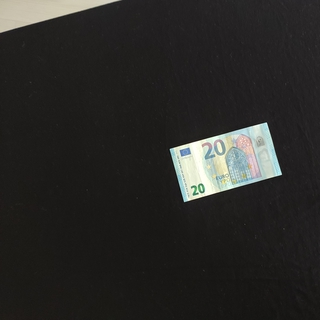20EUROFront: (169, 122, 282, 202)
